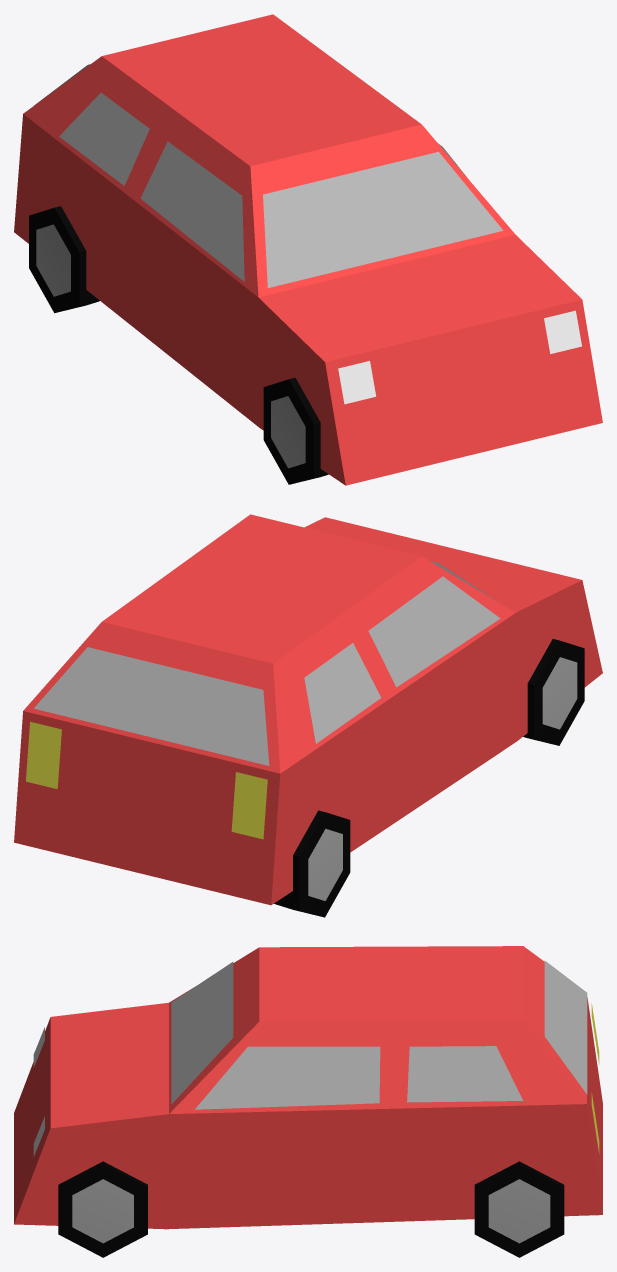
File: LowPoly_PlayerCar_Red.fbx
3 renders of one model, top to bottom at view 1: azimuth 30°, elevation 25°; view 2: azimuth 150°, elevation 25°; view 3: azimuth 270°, elevation 25°, orthographic. The views are drawn at different scales.
Visible parts, largest first — view 1: SmallCar_1; view 2: SmallCar_1; view 3: SmallCar_1.
Part boxes in pixels (<box>): SmallCar_1: <box>14,14,602,485</box>; SmallCar_1: <box>14,514,602,917</box>; SmallCar_1: <box>14,946,602,1257</box>.
Size of the model in its own units: 17.55 by 37.11 by 15.02.
6 materials, 5 textured.
